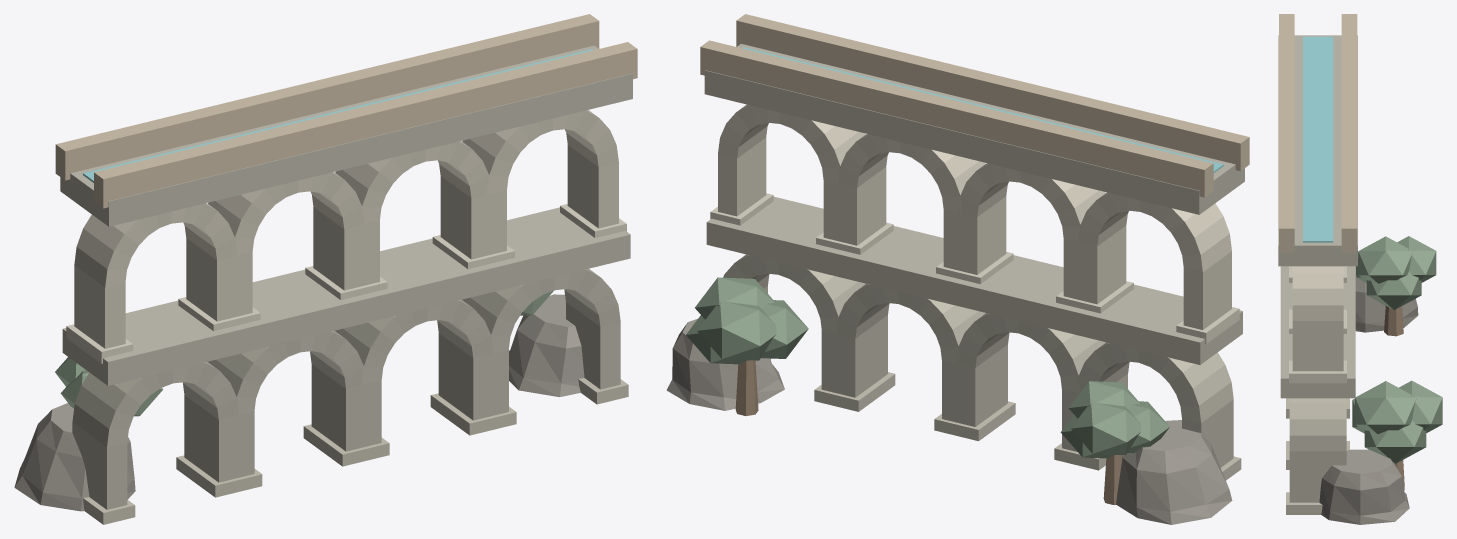
3 views of the same model, side by side, from view 1: azimuth 30°, elevation 25°; view 2: azimuth 150°, elevation 25°; view 3: azimuth 270°, elevation 25° (orthographic). The views are drawn at different scales.
Parts seen in each view (by area): view 1: S39; view 2: S39; view 3: S39.
Part boxes in pixels (<box>): S39: <box>14,14,637,524</box>; S39: <box>666,14,1249,524</box>; S39: <box>1278,14,1442,524</box>.
Size of the model in its own units: 4.55 by 2.64 by 1.36.
